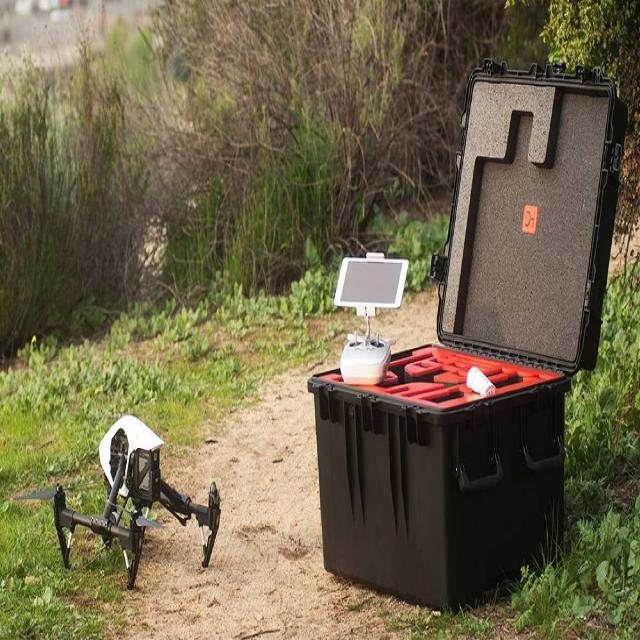drone: (5, 421, 227, 581)
